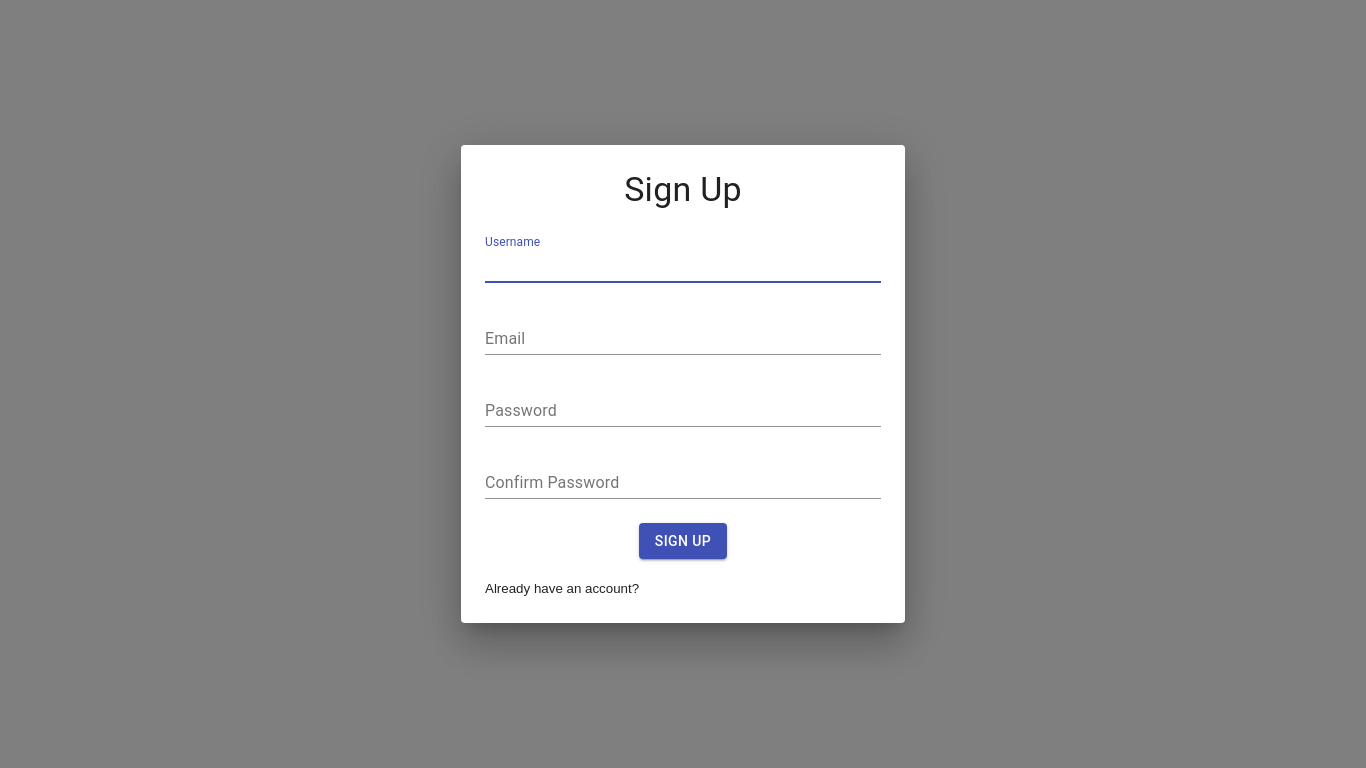
Test case: <SignUpDialog /> › Validation › should give an error on submit if password is empty
Type "username123" into the field labelled "Username" at point(683, 267), box [485,251,881,283]
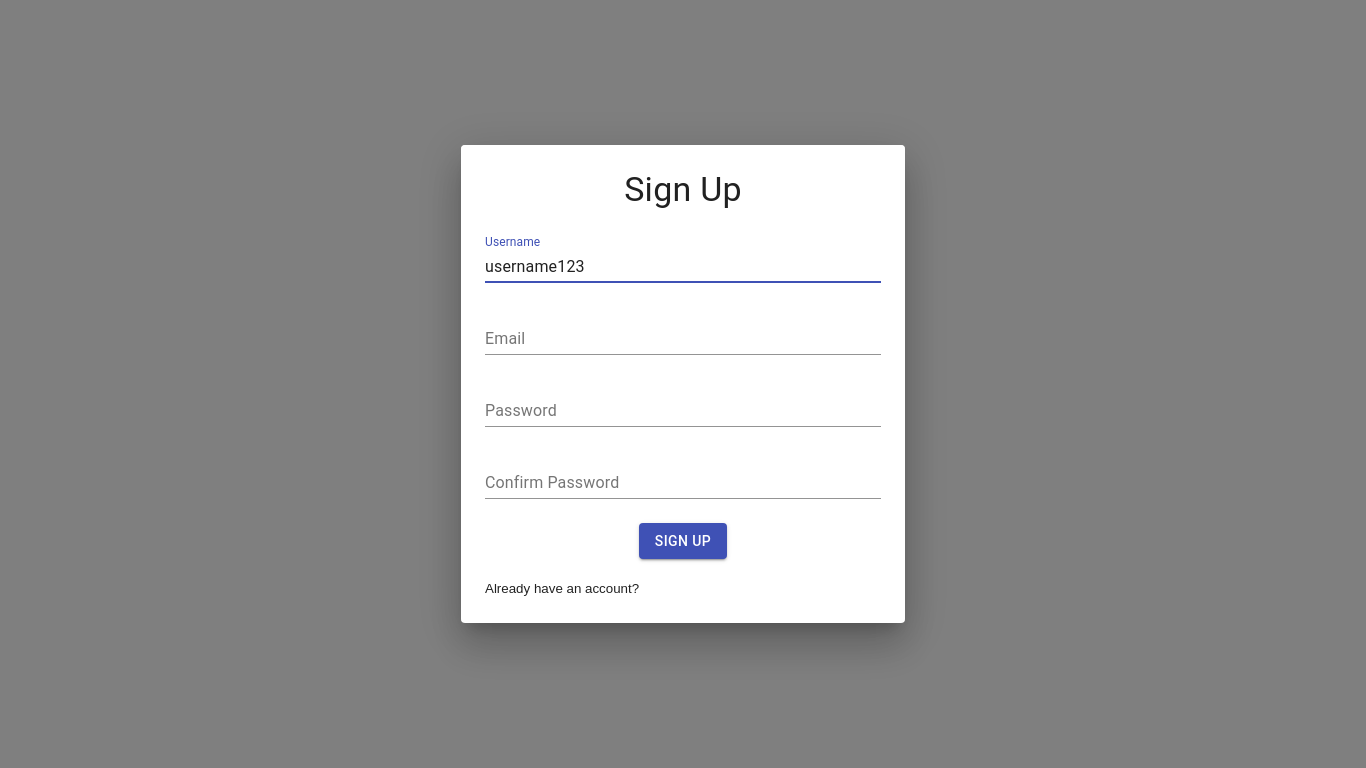
Type "123@gmail.com" into the field labelled "Email" at point(683, 339), box [485,323,881,355]
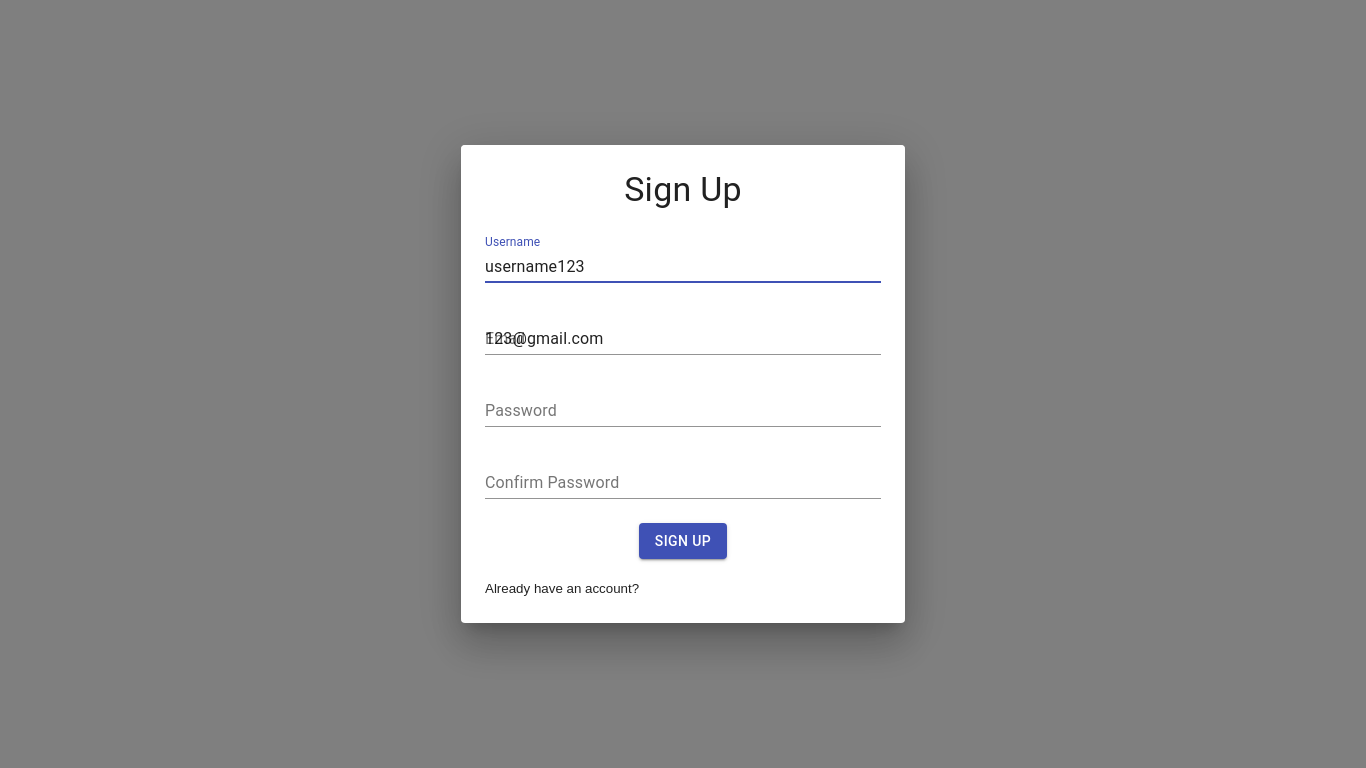
Type "123123" into the password field labelled "Confirm Password" at point(683, 483), box [485,467,881,499]
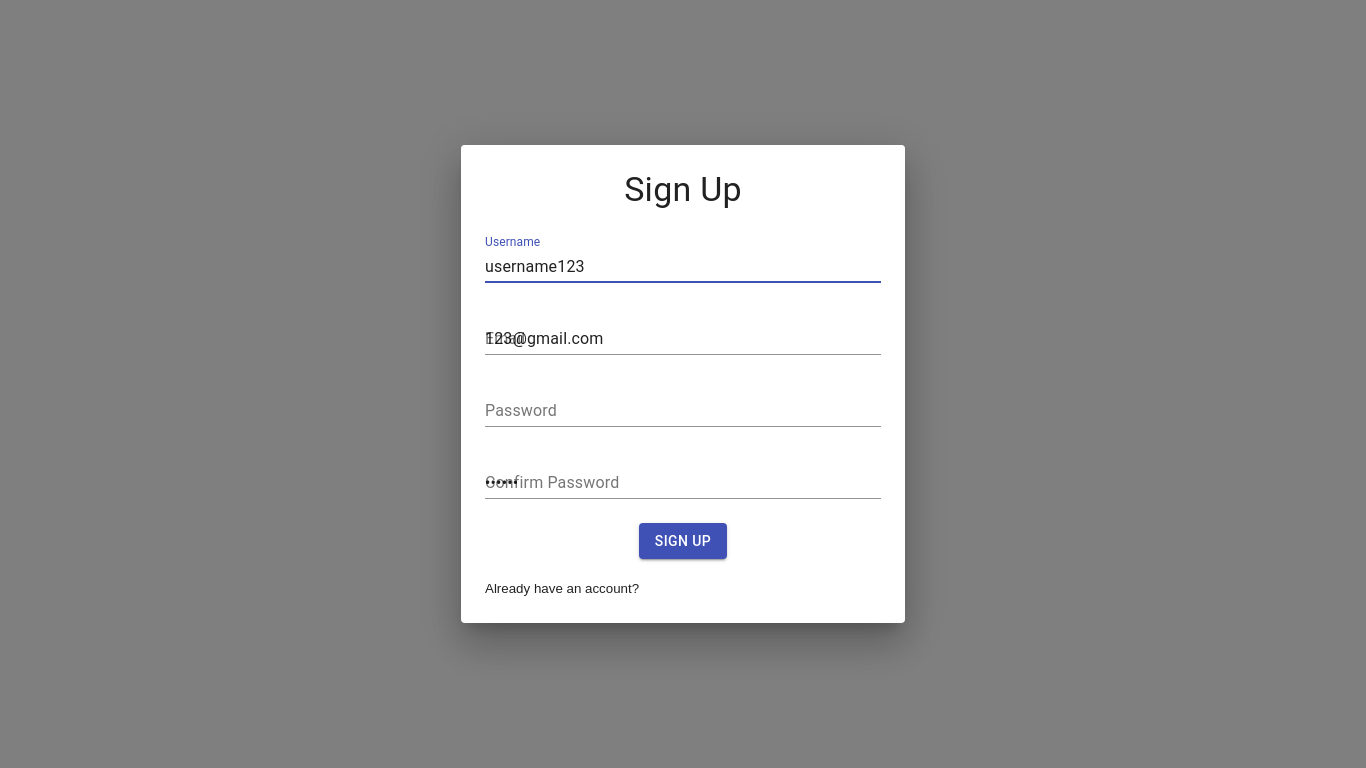
Submit the form, box [485,223,881,571]
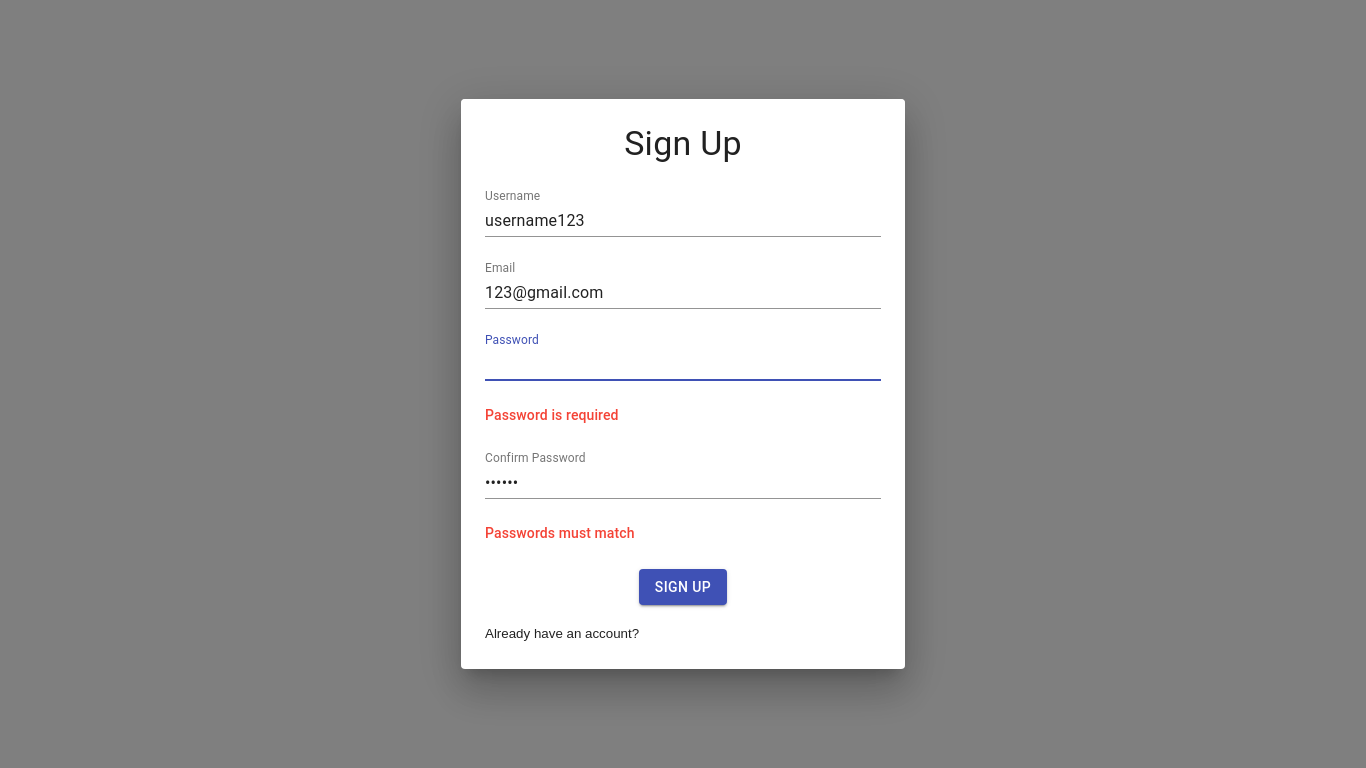
Expected: the text "Password is required" is shown, [485,407,619,423]
